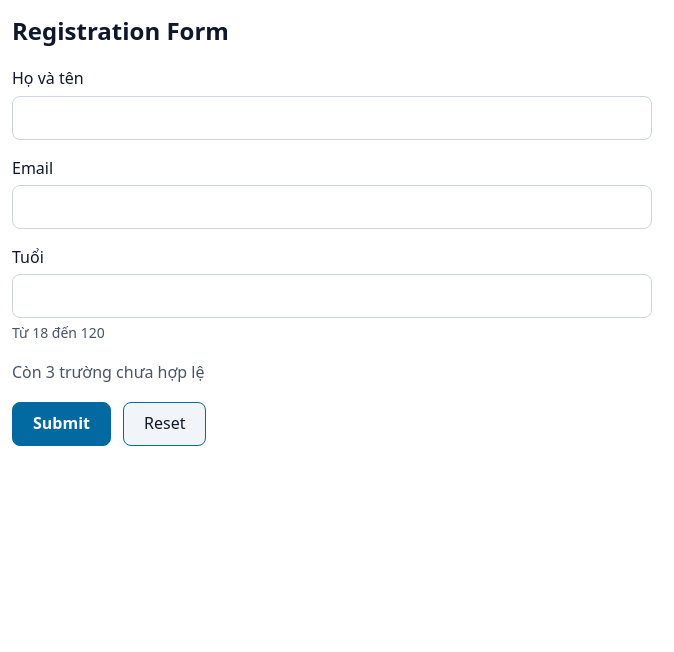
Test case: Sprint 2 — Context form engine › reset clears values and hides the inspector
The width and height of the screenshot is (674, 652).
In the field labelled "Họ và tên": (332, 118) [12,96,652,140], type "Tran Vinh Khiem"
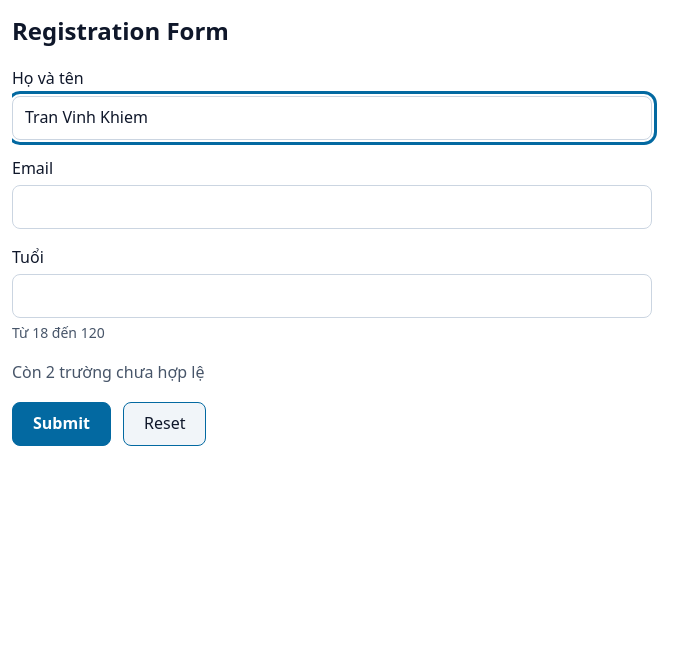
In the field labelled "Email": (332, 207) [12,185,652,229], type "khiem@uit.edu.vn"
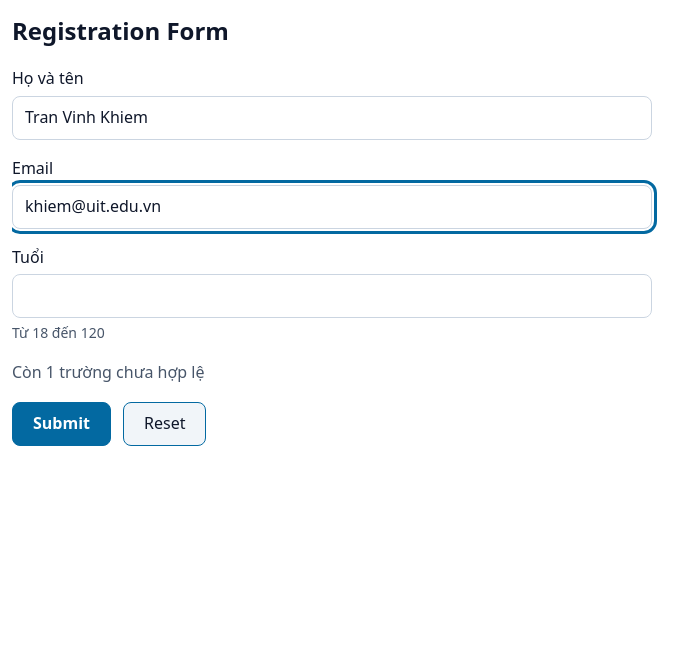
In the number field labelled "Tuổi": (332, 296) [12,274,652,318], type "30"
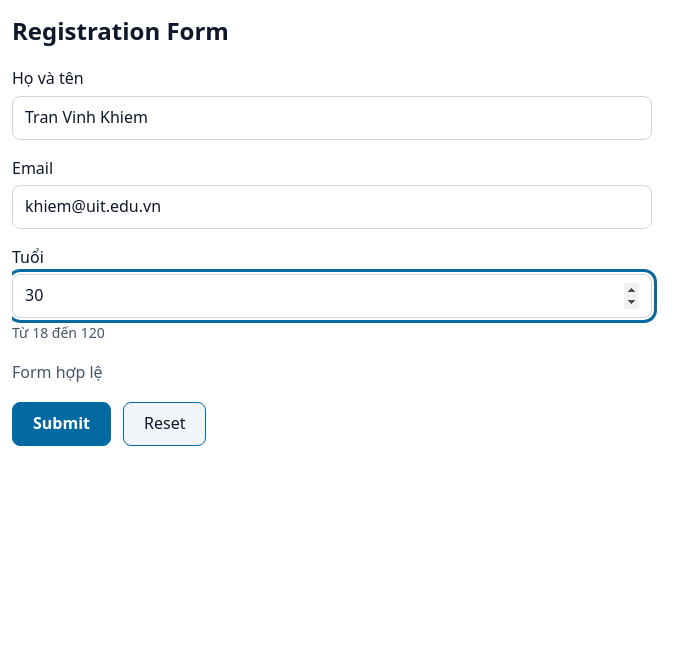
Click the button "Submit": (62, 424) [12,402,111,446]
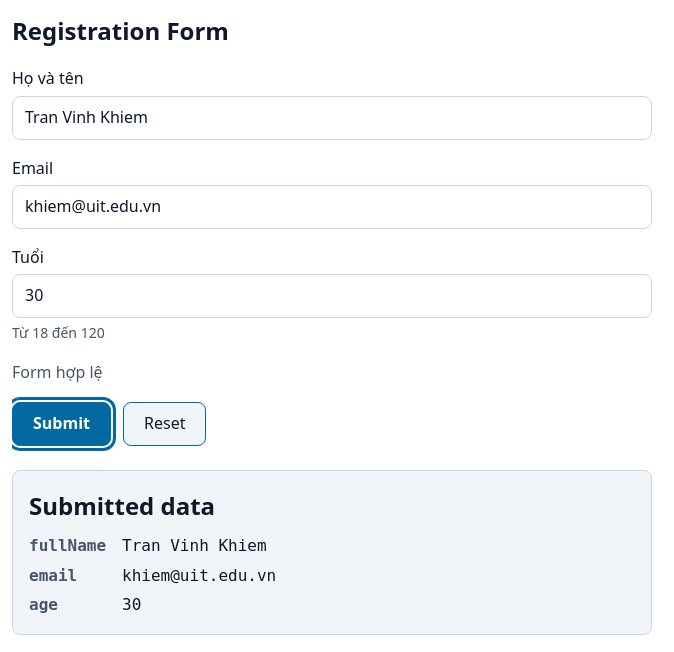
Click the button "Reset": (165, 424) [123,402,206,446]
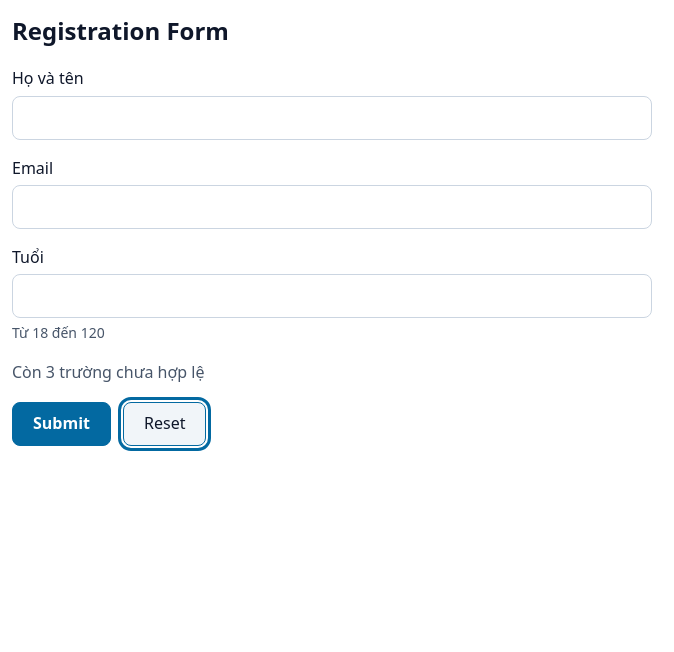
Expected: the field labelled "Họ và tên" is empty, [12,96,652,140]
Expected: the heading "Submitted data" is gone
